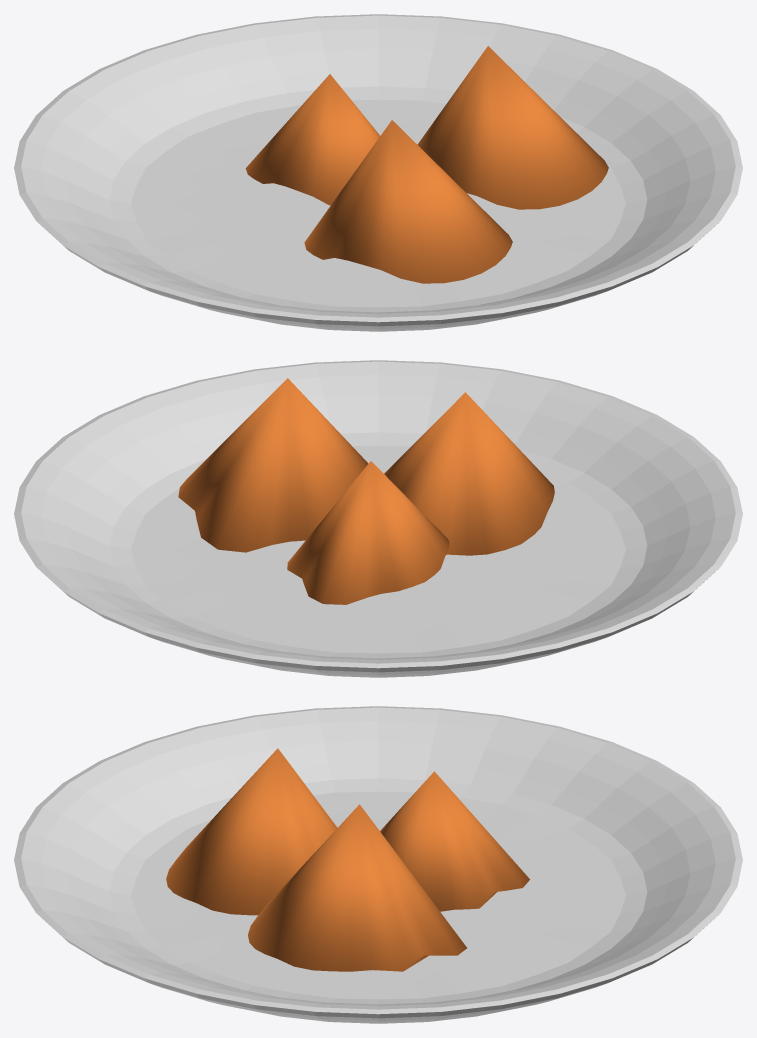
File: burayot.fbx
3 views of the same model, one above another, from view 1: azimuth 30°, elevation 25°; view 2: azimuth 150°, elevation 25°; view 3: azimuth 270°, elevation 25° (orthographic).
Parts seen in each view (by area): view 1: Cylinder, Cone.001, Cone, Cone.002; view 2: Cylinder, Cone, Cone.001, Cone.002; view 3: Cylinder, Cone, Cone.001, Cone.002.
Boxes of the visible parts, bbox=[...] form: Cylinder: bbox=[14, 14, 742, 331]; Cone.001: bbox=[304, 120, 512, 283]; Cone: bbox=[417, 46, 608, 209]; Cone.002: bbox=[245, 74, 379, 205]; Cylinder: bbox=[14, 360, 742, 677]; Cone: bbox=[178, 378, 368, 552]; Cone.001: bbox=[384, 392, 554, 555]; Cone.002: bbox=[287, 461, 449, 604]; Cylinder: bbox=[14, 706, 742, 1023]; Cone: bbox=[248, 804, 466, 971]; Cone.001: bbox=[166, 748, 337, 915]; Cone.002: bbox=[380, 771, 529, 911].
Size of the model in its own units: 231 by 55.79 by 231.
